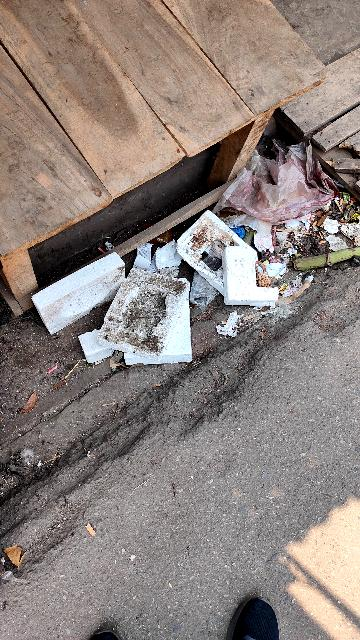cocksheet: (30, 209, 283, 372)
